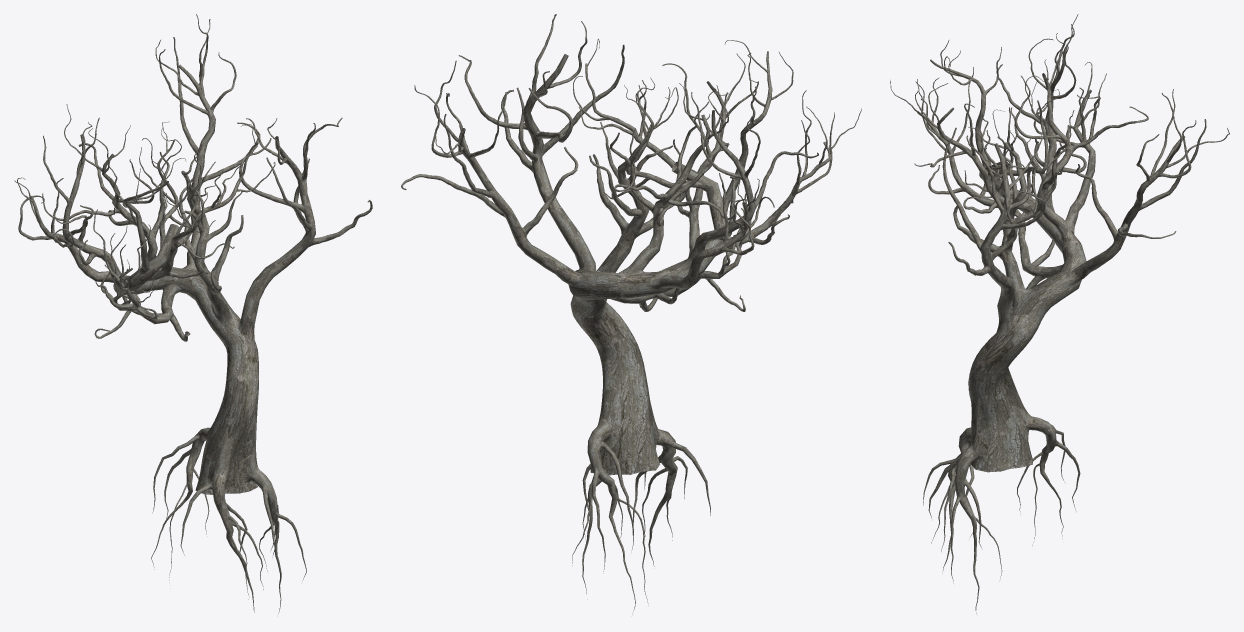
Rendered from Arbol1.fbx.
The picture shows the model from 3 angles, left to right: view 1: azimuth 30°, elevation 25°; view 2: azimuth 150°, elevation 25°; view 3: azimuth 270°, elevation 25°; orthographic projection. The views are drawn at different scales.
Parts seen in each view (by area): view 1: Arbol1; view 2: Arbol1; view 3: Arbol1.
Part boxes in pixels (bbox=[...]): Arbol1: bbox=[14, 14, 372, 613]; Arbol1: bbox=[401, 14, 861, 613]; Arbol1: bbox=[890, 14, 1229, 613].
Size of the model in its own units: 3.77 by 6.4 by 3.67.
